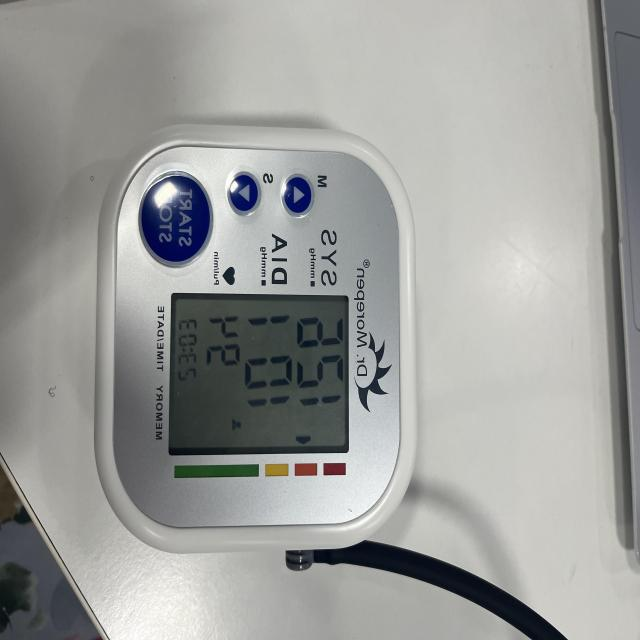bp: (86, 115, 427, 573)
